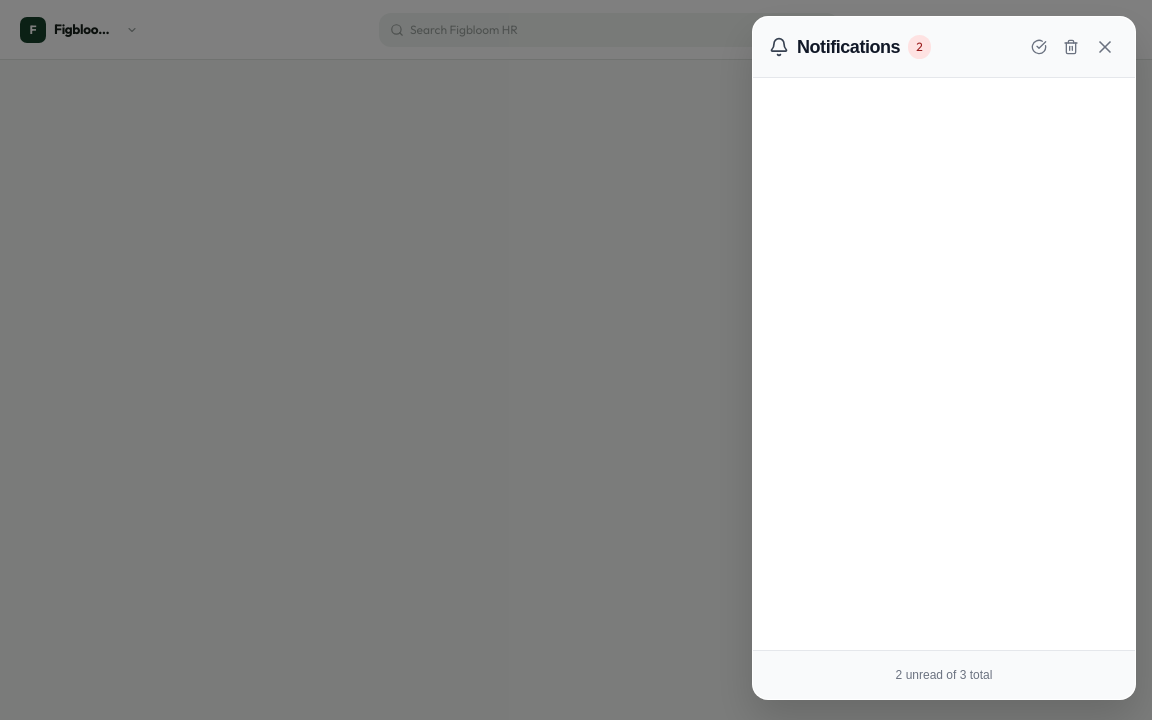
it: Header notifications: read and cleared are the person’s own › marks all as read (only the unread ones are sent)
Earlier steps of the test are not shown.
Click the button named "Mark all as read" at (1039, 47), box [1027,35,1051,59]
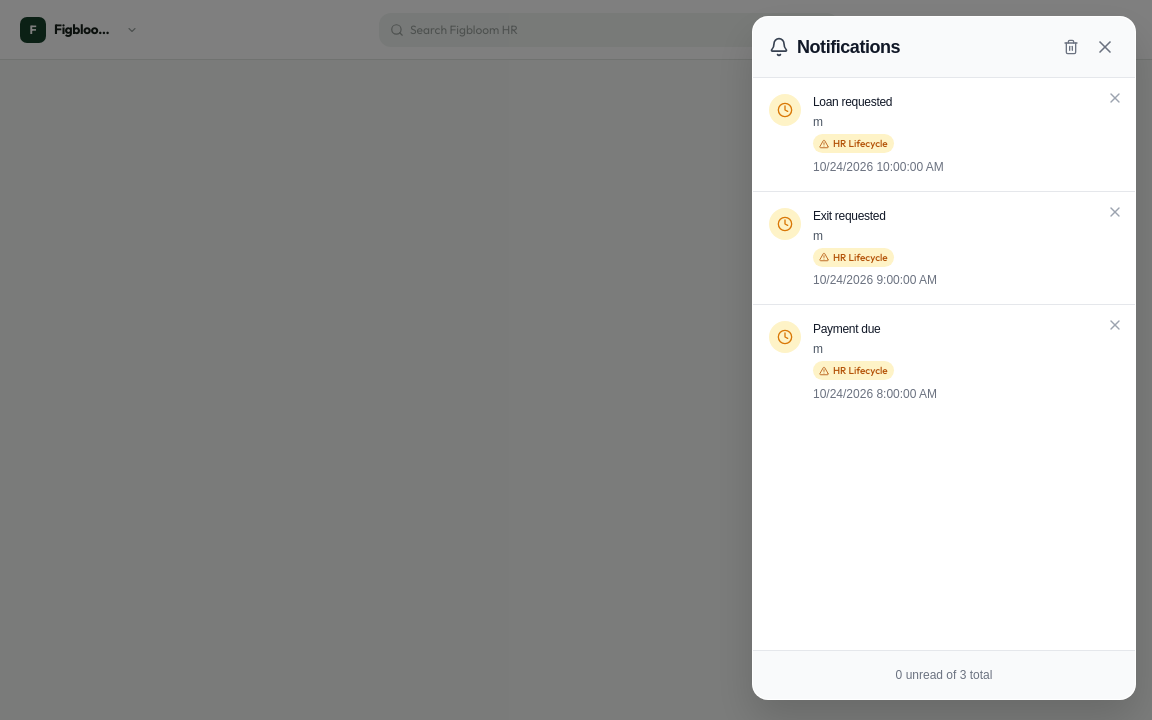
Check: the heading "Payment due" is shown, box [813,322,880,336]
